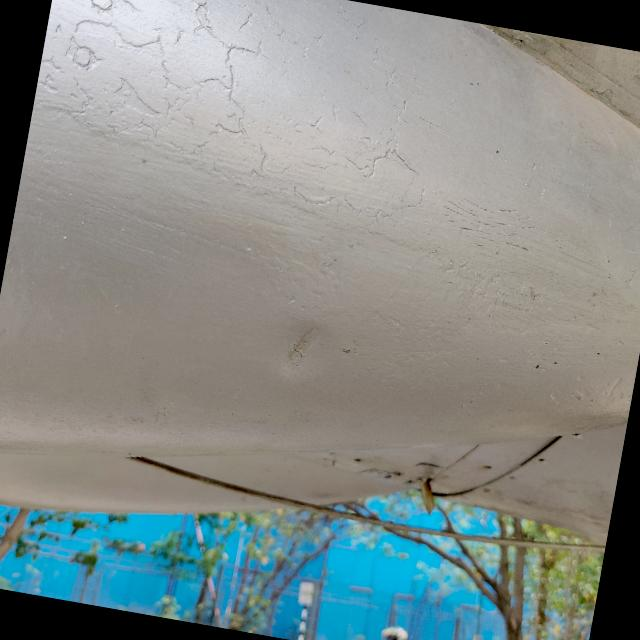dent: (254, 296, 348, 389)
